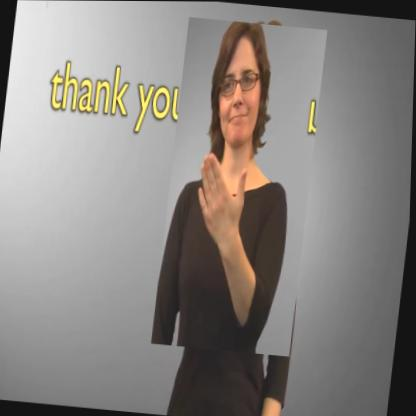ThankYou: (153, 16, 328, 356)
